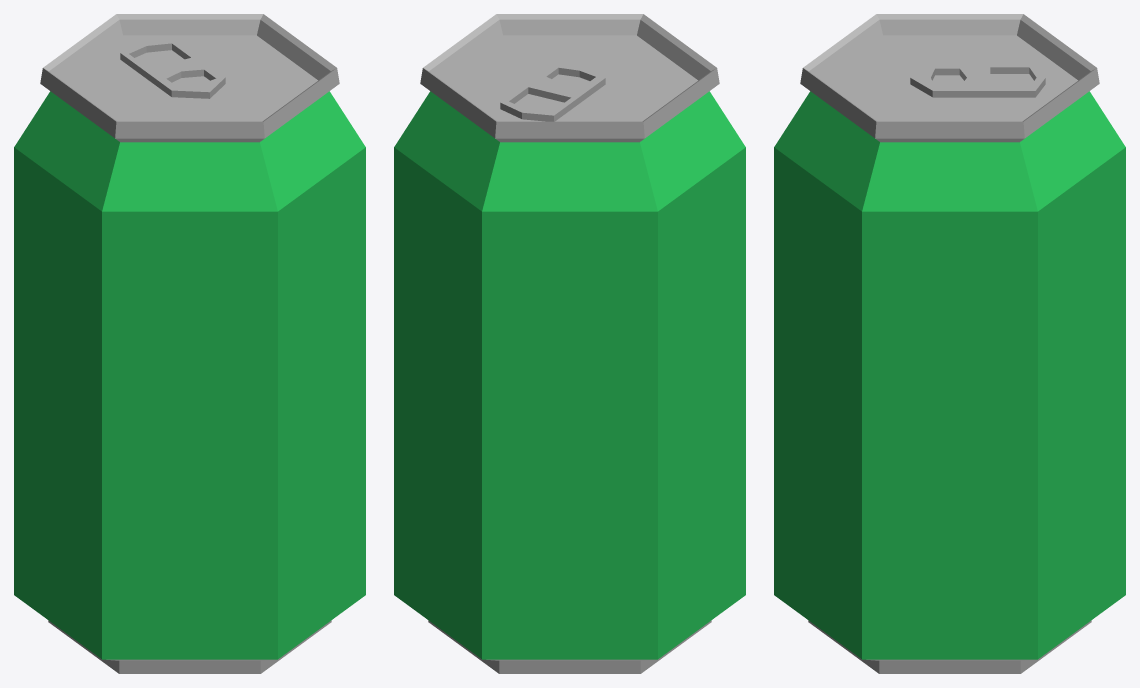
File: BeverageCan1Green.fbx
3 views of the same model, side by side, from view 1: azimuth 30°, elevation 25°; view 2: azimuth 150°, elevation 25°; view 3: azimuth 270°, elevation 25° (orthographic).
Visible parts, largest first — view 1: Cylinder; view 2: Cylinder; view 3: Cylinder.
Part boxes in pixels (<box>): Cylinder: <box>14,14,365,673</box>; Cylinder: <box>394,14,745,673</box>; Cylinder: <box>774,14,1125,673</box>.
Bounding box in the file's own units: 0.1364 × 0.2738 × 0.1575.
